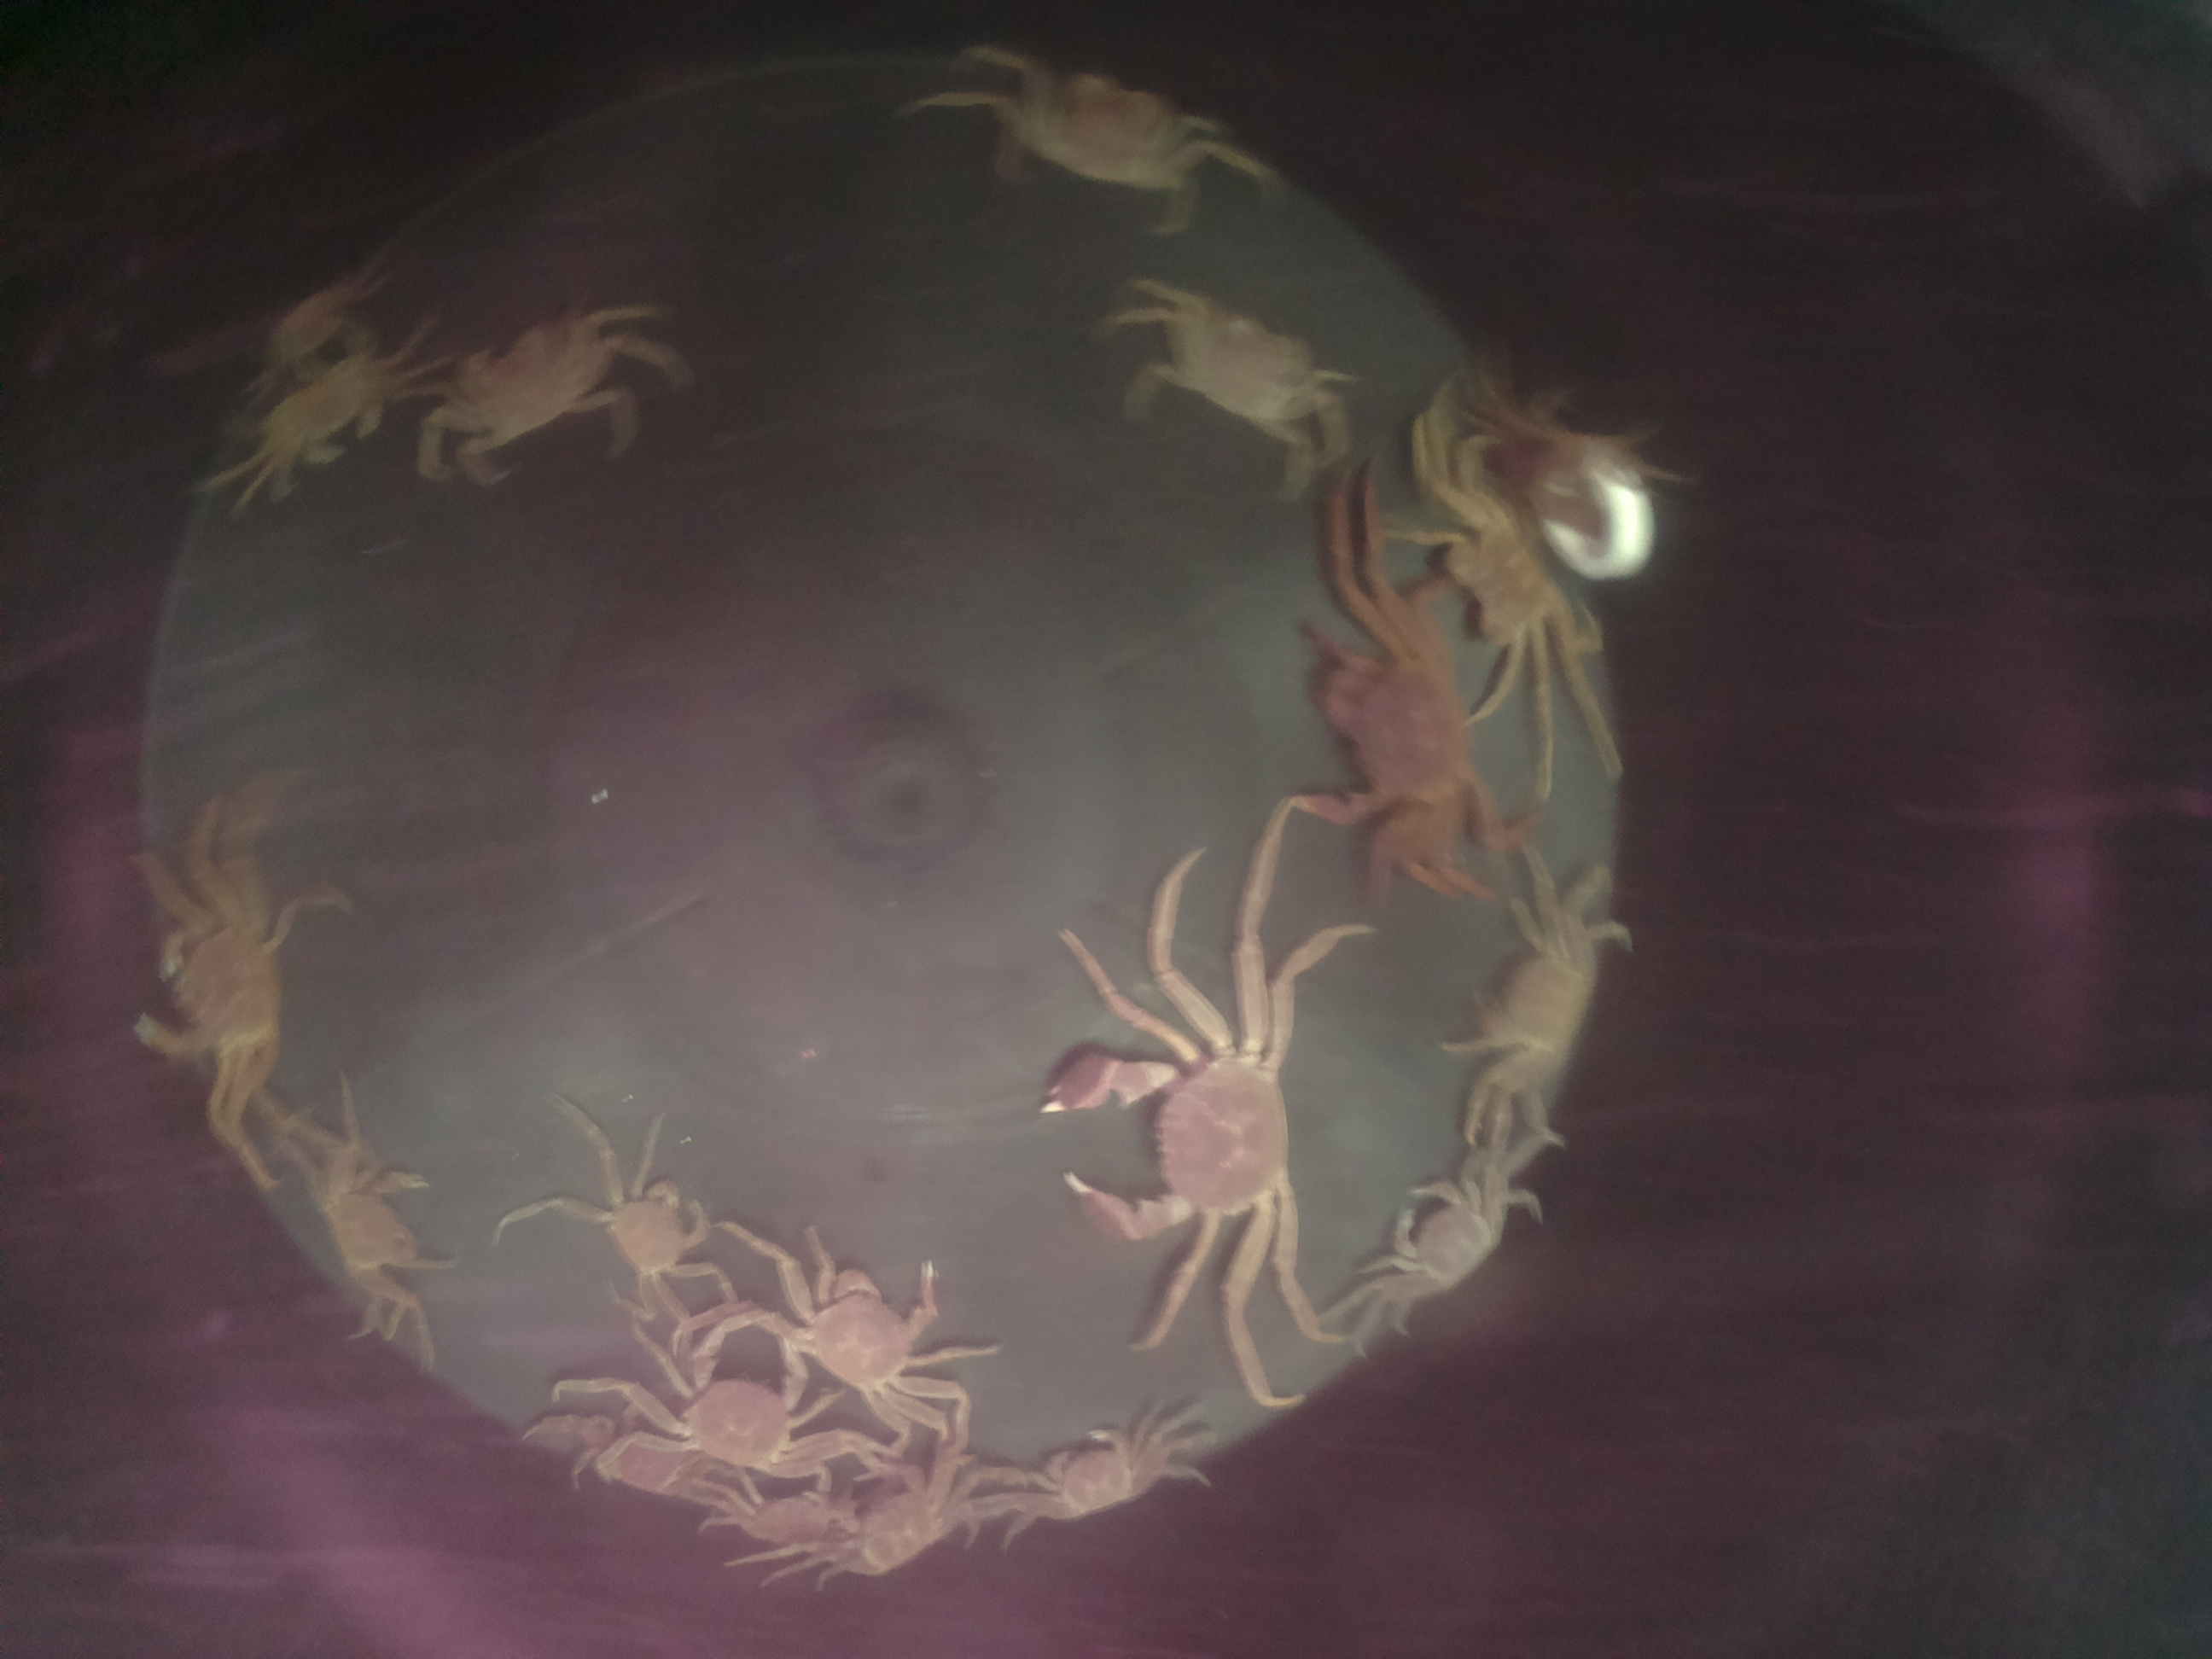Crab: (1024, 1014, 1329, 1258), (118, 885, 310, 1087), (765, 1234, 968, 1422), (1381, 1148, 1529, 1326), (437, 305, 599, 464), (298, 1138, 462, 1293), (1021, 1406, 1167, 1544), (583, 1166, 718, 1297)
